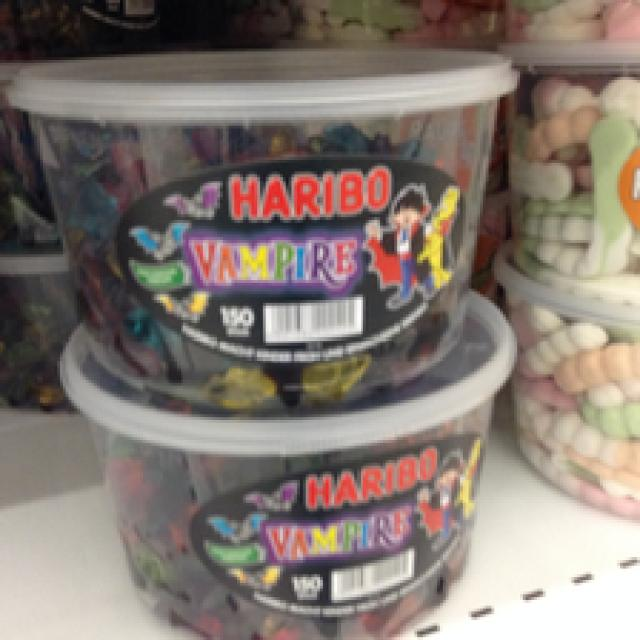groceries: (6, 57, 517, 400), (51, 357, 523, 637)
